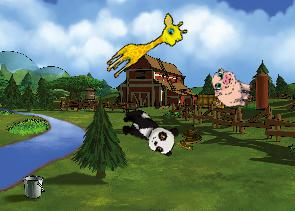giraffe: (101, 9, 191, 88)
panda: (115, 104, 182, 159)
pig: (207, 66, 256, 112)
